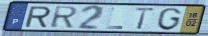2: (76, 5, 106, 31)
G: (156, 7, 184, 31)
L: (105, 6, 125, 30)
R: (49, 6, 80, 29), (23, 6, 53, 29)
T: (133, 7, 158, 31)
